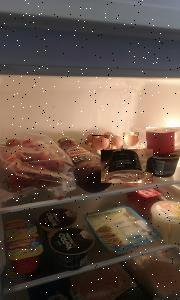Huevos: (92, 135, 110, 150), (123, 132, 139, 148), (110, 134, 124, 151)
Yogur: (101, 149, 153, 183), (5, 232, 44, 274), (146, 127, 180, 155)
